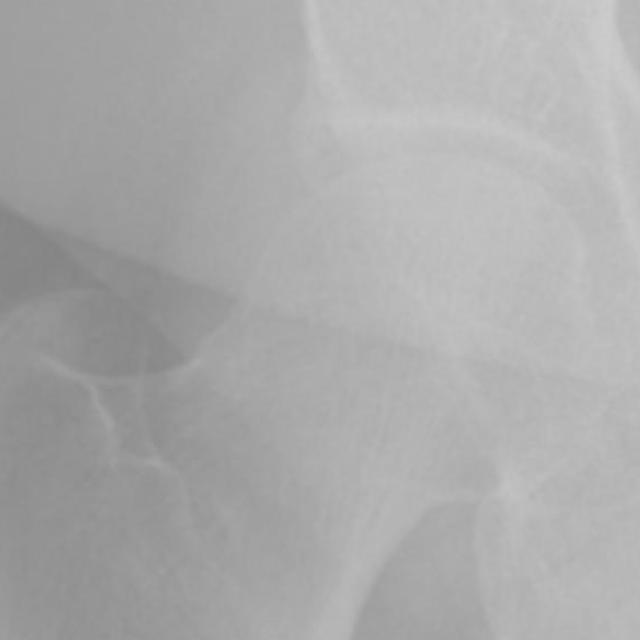Fitted_femural_head: (368, 152, 432, 368)
